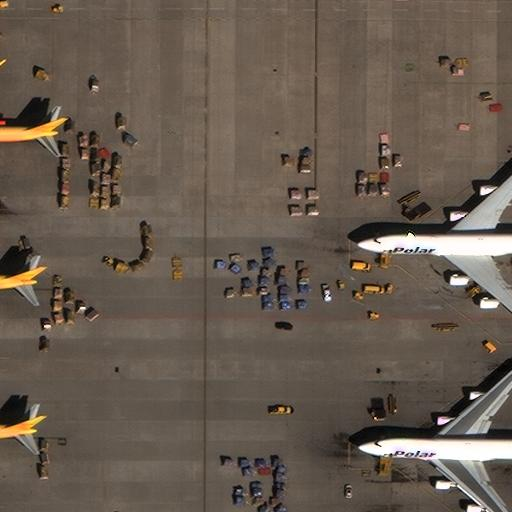Large Civil Transport: (356, 166, 511, 319), (357, 367, 511, 512), (0, 74, 57, 190), (0, 238, 37, 322), (0, 390, 37, 473)
